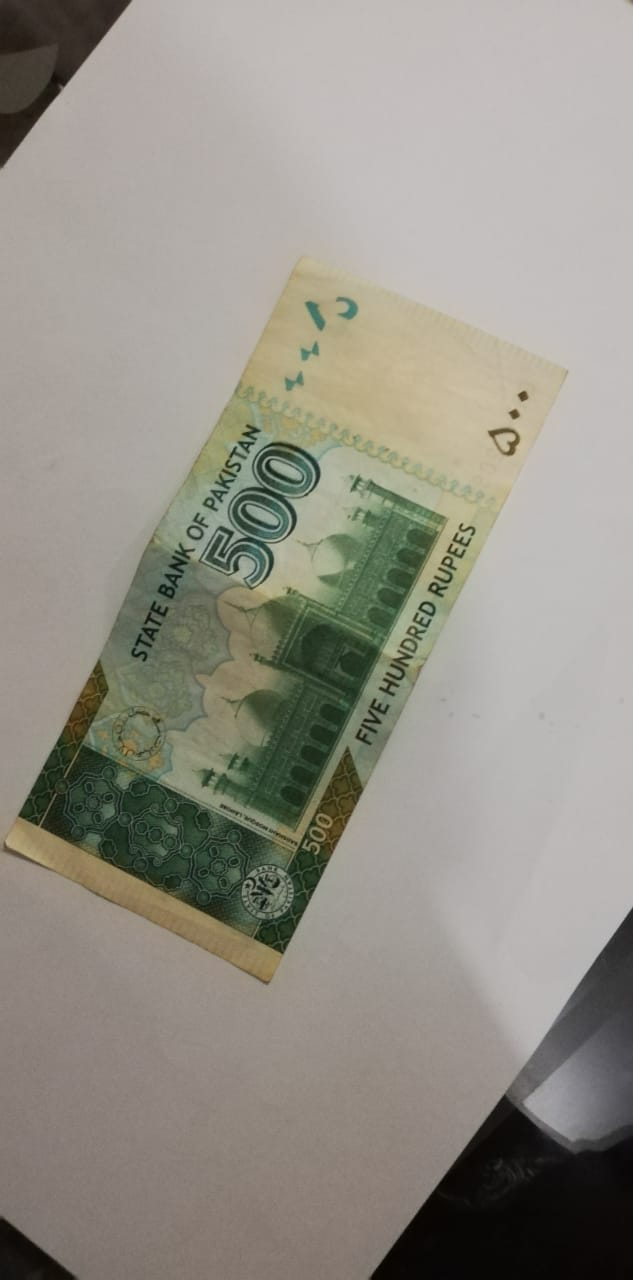500 rupee: (25, 251, 543, 970)
